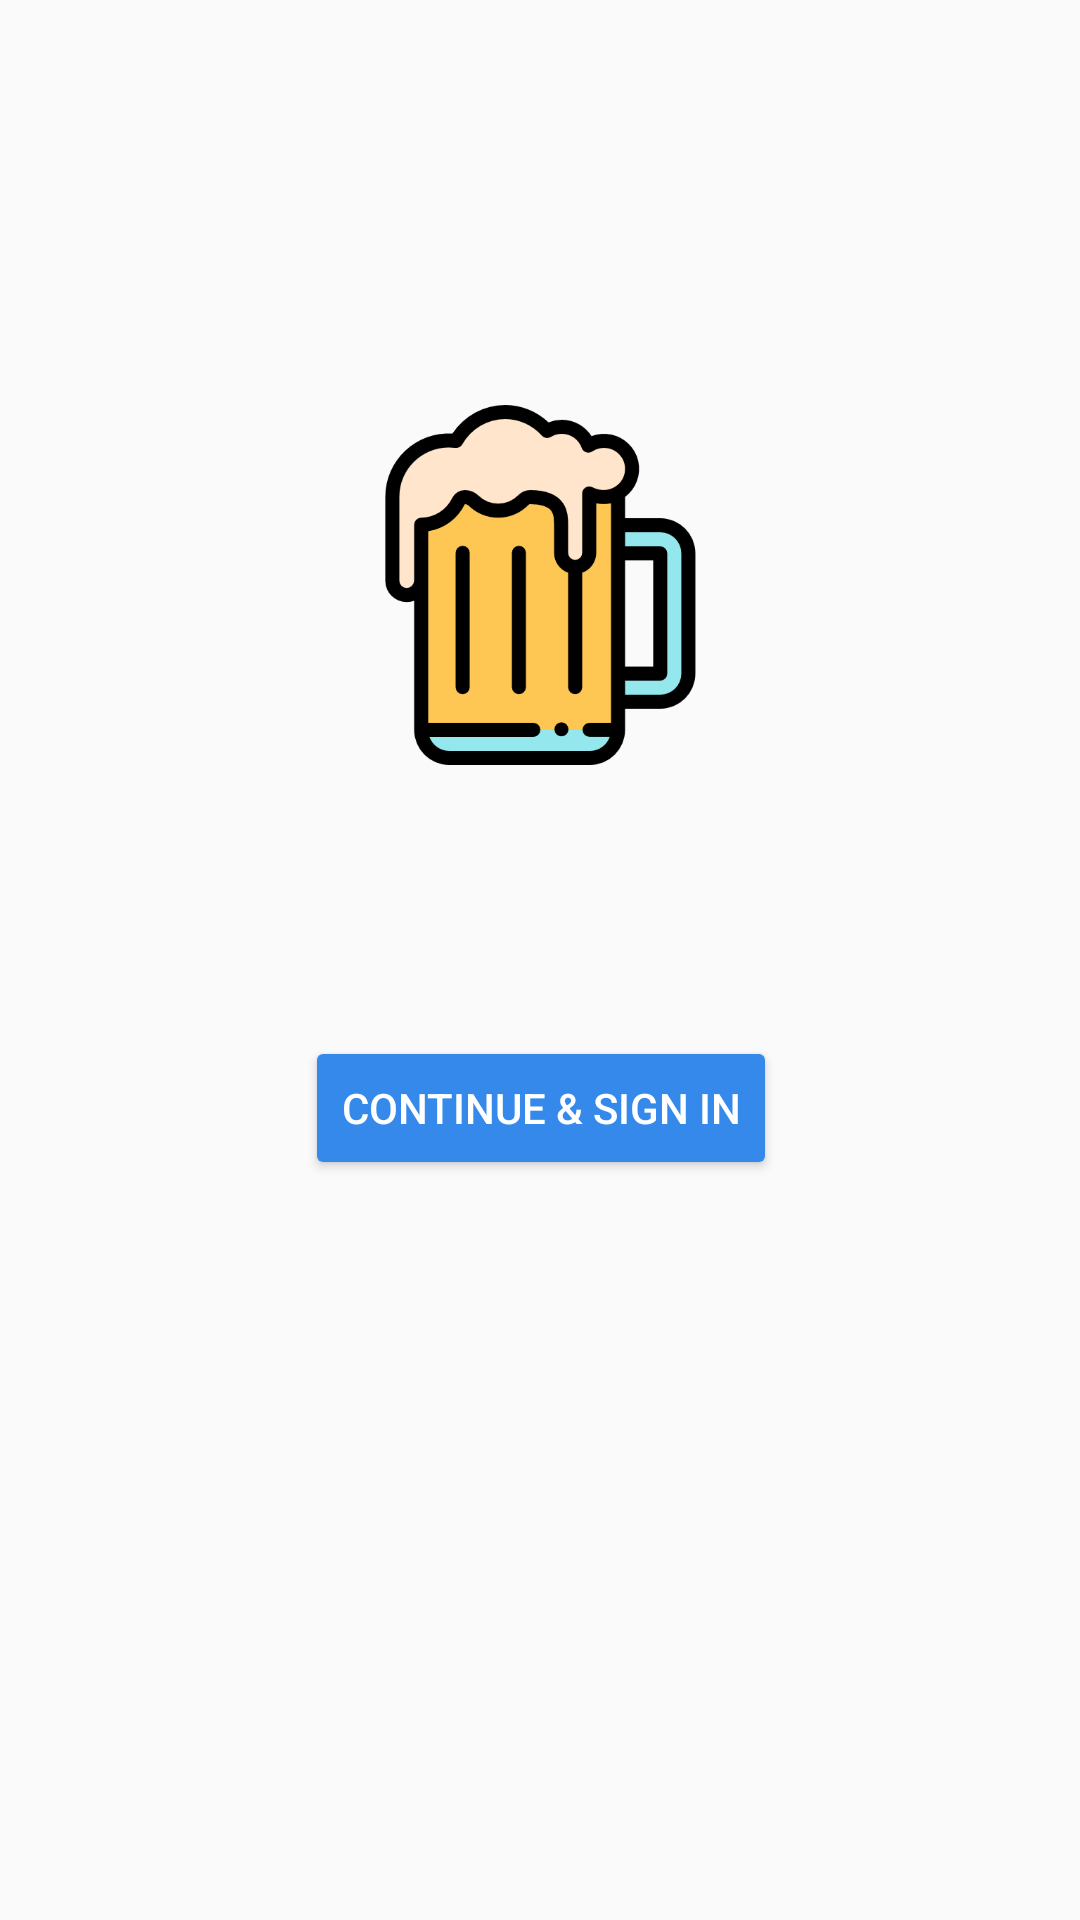

Where icons sit on this 1080 x 1920 app screen, as (x1, y1, x2, y2):
beer: (385, 405, 696, 765)
